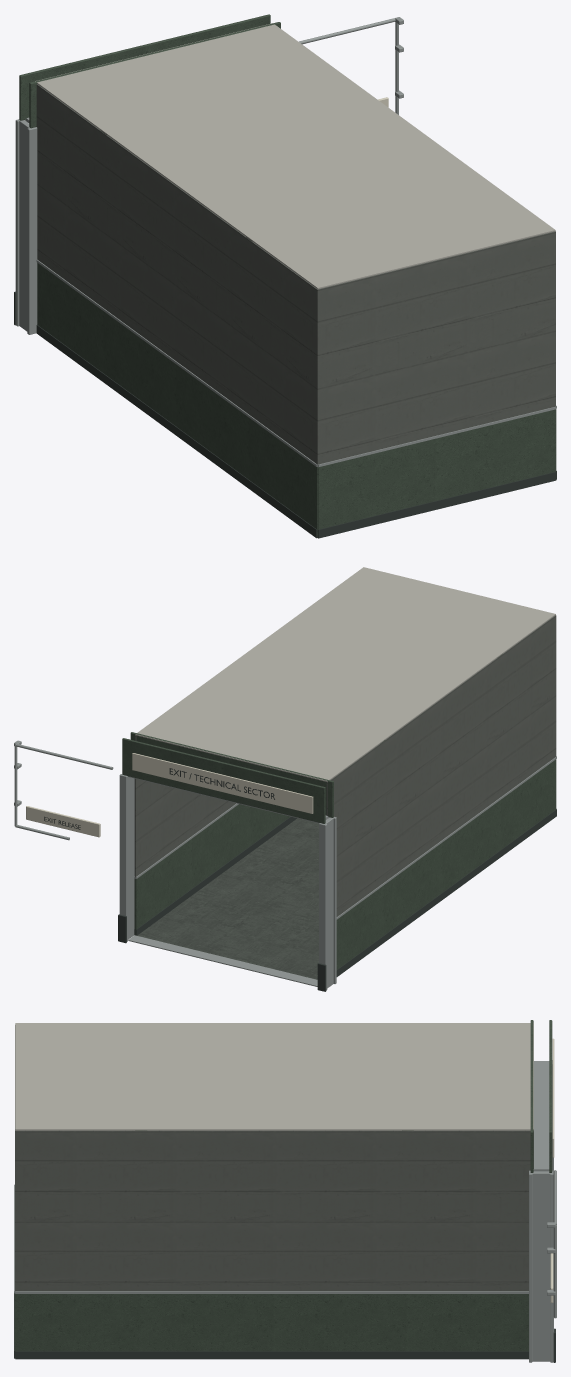
File: transfer_exit_lining.glb
3 views of the same model, one above another, from view 1: azimuth 30°, elevation 25°; view 2: azimuth 150°, elevation 25°; view 3: azimuth 270°, elevation 25° (orthographic). The views are drawn at different scales.
Visible parts, largest first — view 1: transfer_exit_lining / transfer_quiet_concrete, transfer_exit_lining / bay_ceiling_ivory, transfer_exit_lining / transfer_green_enamel, transfer_exit_lining / transfer_galvanized, transfer_exit_lining / transfer_dark_steel; view 2: transfer_exit_lining / bay_ceiling_ivory, transfer_exit_lining / transfer_quiet_concrete, transfer_exit_lining / transfer_green_enamel, transfer_exit_lining / transfer_floor_coating, transfer_exit_lining / transfer_galvanized, transfer_exit_lining / transfer_instrument_ivory, transfer_exit_lining / transfer_dark_steel; view 3: transfer_exit_lining / transfer_quiet_concrete, transfer_exit_lining / bay_ceiling_ivory, transfer_exit_lining / transfer_green_enamel, transfer_exit_lining / transfer_galvanized, transfer_exit_lining / transfer_dark_steel, transfer_exit_lining / transfer_instrument_ivory.
Boxes of the visible parts, <box> form: transfer_exit_lining / transfer_quiet_concrete: <box>36,84,555,466</box>; transfer_exit_lining / bay_ceiling_ivory: <box>35,23,555,288</box>; transfer_exit_lining / transfer_green_enamel: <box>19,14,556,536</box>; transfer_exit_lining / transfer_galvanized: <box>15,17,556,467</box>; transfer_exit_lining / transfer_dark_steel: <box>14,291,556,538</box>; transfer_exit_lining / bay_ceiling_ivory: <box>135,567,555,781</box>; transfer_exit_lining / transfer_quiet_concrete: <box>135,615,556,916</box>; transfer_exit_lining / transfer_green_enamel: <box>122,654,556,969</box>; transfer_exit_lining / transfer_floor_coating: <box>137,818,318,979</box>; transfer_exit_lining / transfer_galvanized: <box>14,740,556,990</box>; transfer_exit_lining / transfer_instrument_ivory: <box>26,753,313,837</box>; transfer_exit_lining / transfer_dark_steel: <box>44,768,556,991</box>; transfer_exit_lining / transfer_quiet_concrete: <box>15,1025,533,1291</box>; transfer_exit_lining / bay_ceiling_ivory: <box>15,1023,533,1130</box>; transfer_exit_lining / transfer_green_enamel: <box>14,1020,552,1351</box>; transfer_exit_lining / transfer_galvanized: <box>14,1060,556,1362</box>; transfer_exit_lining / transfer_dark_steel: <box>14,1293,555,1362</box>; transfer_exit_lining / transfer_instrument_ivory: <box>550,1038,554,1302</box>.
Size of the model in its own units: 6.13 by 3.8 by 8.15.
Materials: 7 (3 with a texture image).
